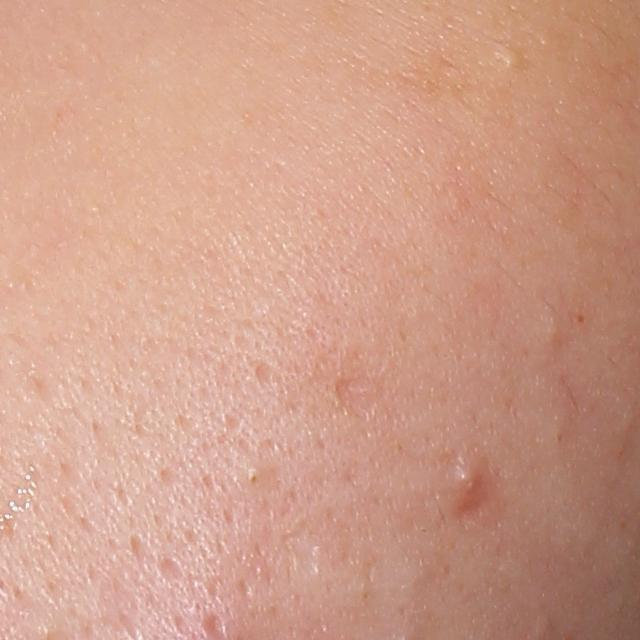atrophic_scar: (151, 553, 187, 592), (250, 356, 277, 383)
comedo: (538, 314, 564, 349), (498, 47, 522, 70), (244, 465, 263, 492)
papule: (452, 461, 486, 501)
